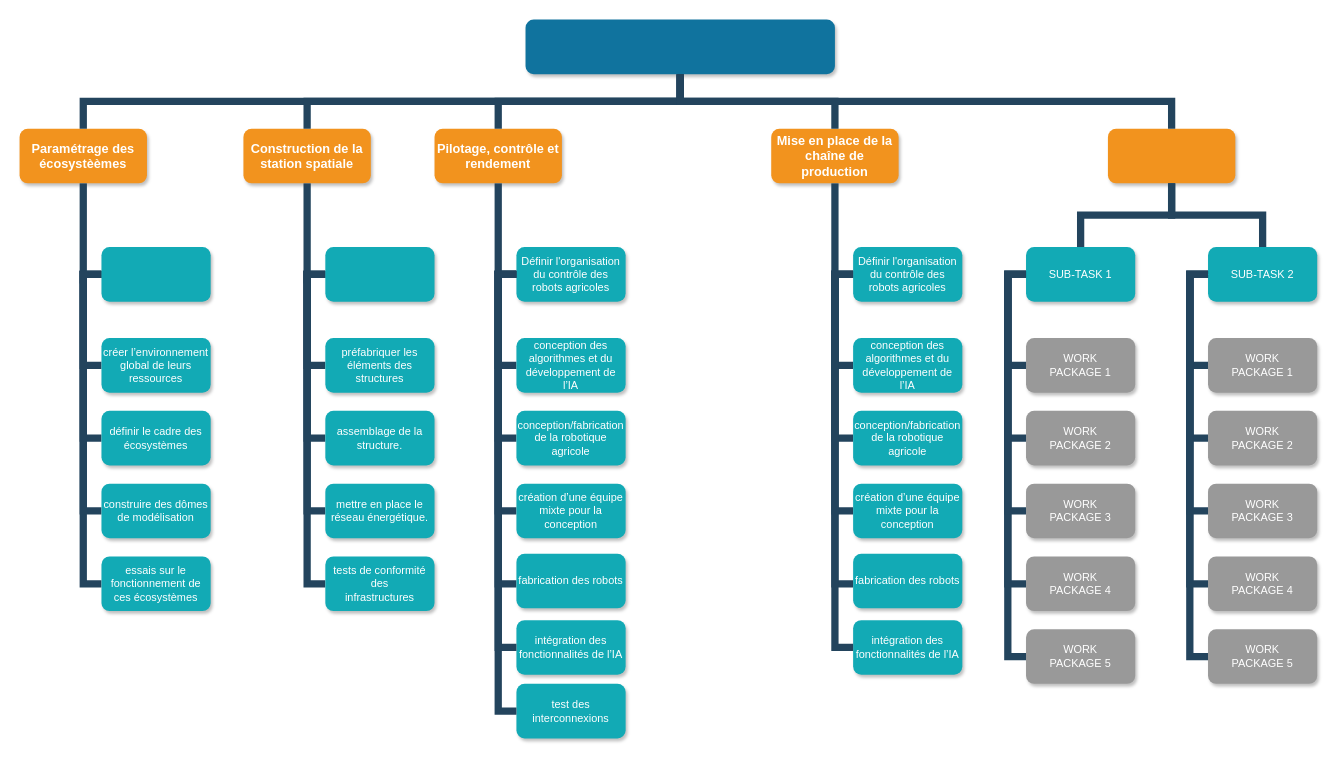
Some shapes in this 1338 by 760 pixel diagram are drawn without their labels. The shapes that lost their labels are listed below. From the top down, each one's centre as x and y in pixels, then its label:
the point at 680,47: Projet SpaceÔGarden
the point at 1172,157: Finalisation
the point at 156,275: sélectionner les sources de nutrition
the point at 380,275: rédaction du cahier des charges
